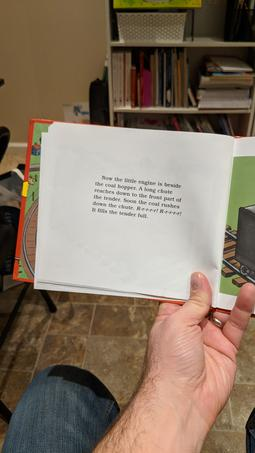text block: (84, 169, 189, 223)
